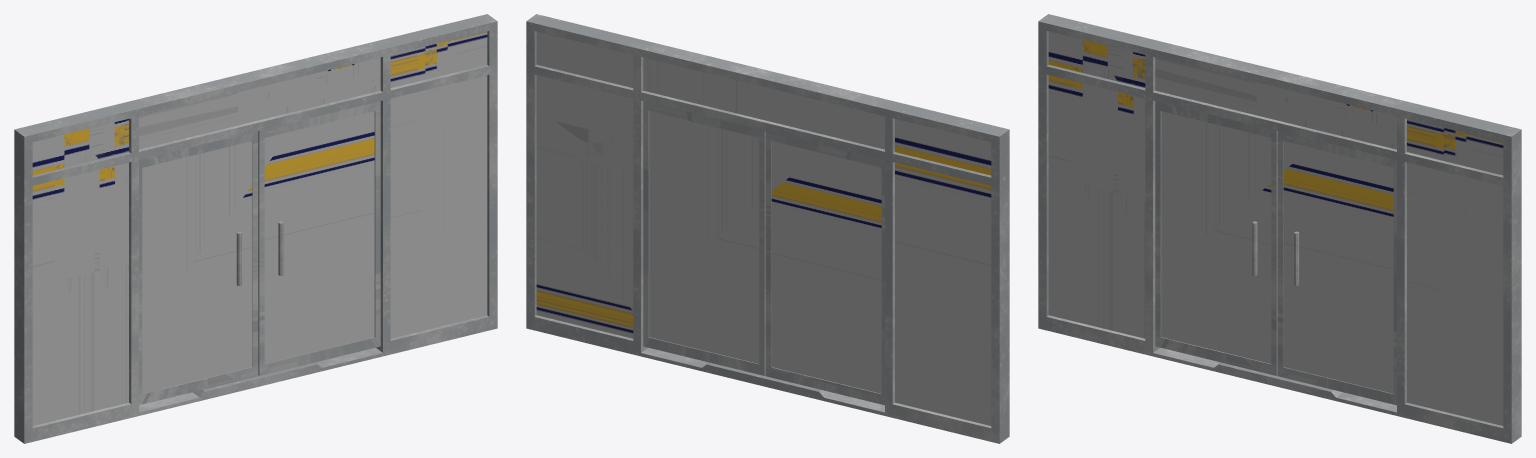
The model's file is Frontdoor.fbx.
3 renders of one model, left to right at view 1: azimuth 30°, elevation 25°; view 2: azimuth 150°, elevation 25°; view 3: azimuth 330°, elevation 25°, orthographic.
Visible parts, largest first — view 1: schooldoor_glass_GEO, schooldoor_metal_GEO; view 2: schooldoor_glass_GEO, schooldoor_metal_GEO; view 3: schooldoor_glass_GEO, schooldoor_metal_GEO.
Part boxes in pixels (bbox=[...]): schooldoor_glass_GEO: bbox=[32, 31, 487, 425]; schooldoor_metal_GEO: bbox=[14, 14, 497, 443]; schooldoor_glass_GEO: bbox=[536, 31, 991, 425]; schooldoor_metal_GEO: bbox=[526, 14, 1009, 443]; schooldoor_glass_GEO: bbox=[1048, 31, 1503, 425]; schooldoor_metal_GEO: bbox=[1038, 14, 1521, 443].
Bounding box in the file's own units: 155 × 95.83 × 5.92.
2 materials, 2 textured.
